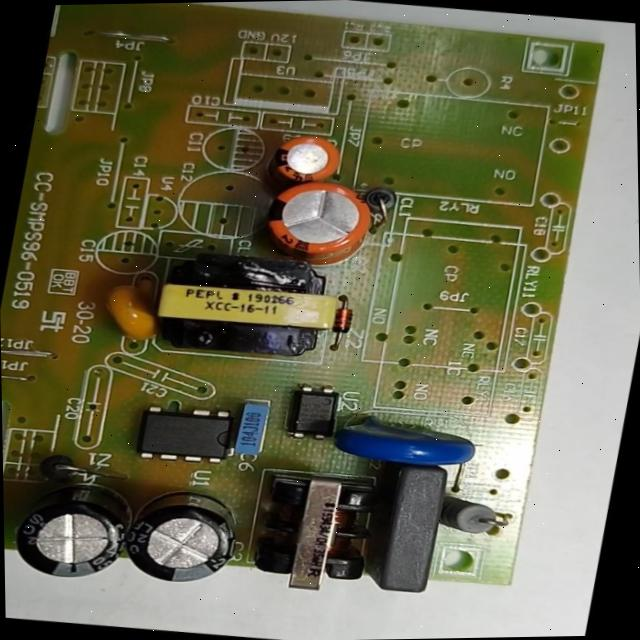Cap1: (262, 175, 380, 258)
Cap2: (272, 134, 342, 182)
Cap3: (128, 486, 240, 583)
Cap4: (11, 478, 134, 584)
MOSFET: (137, 402, 235, 462)
Mov: (340, 414, 480, 468)
Resistor: (442, 497, 509, 538)
Transformer: (150, 252, 344, 361), (252, 472, 377, 596)
